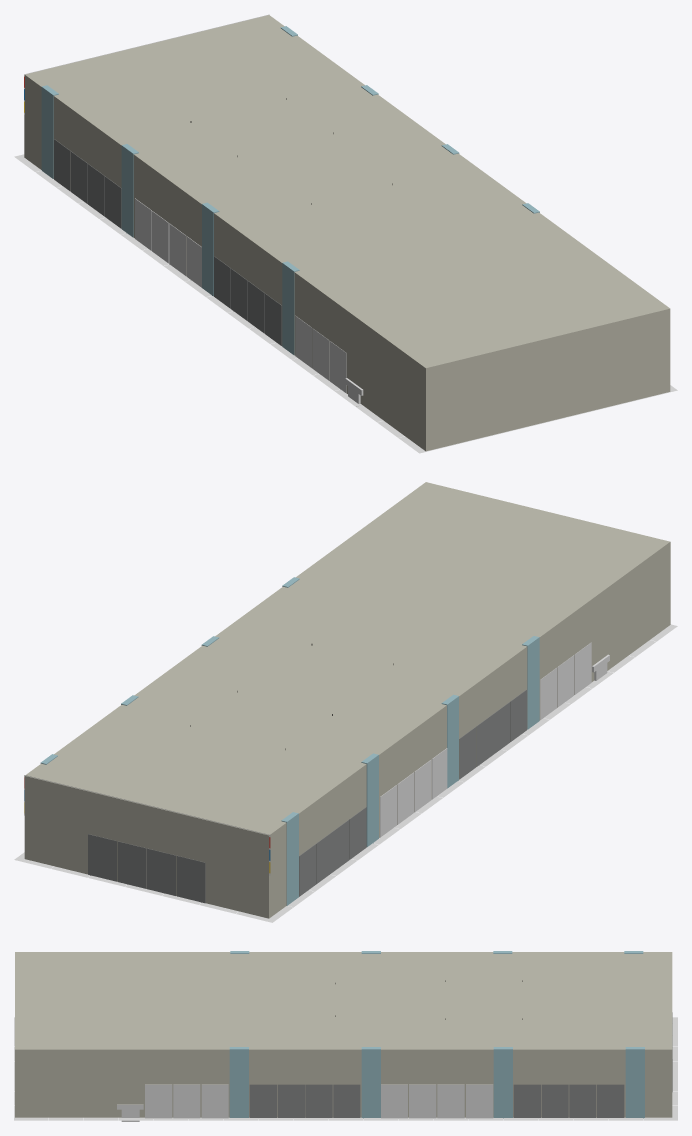
File: Map.fbx
The picture shows the model from 3 angles, top to bottom: view 1: azimuth 30°, elevation 25°; view 2: azimuth 150°, elevation 25°; view 3: azimuth 270°, elevation 25°; orthographic projection. The views are drawn at different scales.
Parts seen in each view (by area): view 1: The Box, Cube.001, Floor Is Lava, Fridge.015, Fridge.014, Cube.022, Cube.024, Cube.016, Cube.013, Fridge.003, Fridge.012, Fridge (+5 smaller); view 2: The Box, Cube.001, Floor Is Lava, Fridge.024, Fridge.028, Fridge.029, Fridge.025, Fridge.003, Fridge.015, Cube.022, Cube.024, Cube.013 (+10 smaller); view 3: The Box, Cube.001, Floor Is Lava, Cube.017, Cube.015, Cube.011, Cube.012, Cube.019, Cube.020, Fridge.006, Fridge.004, Fridge.005 (+7 smaller).
Part boxes in pixels (bbox=[...]): The Box: bbox=[24, 15, 670, 451]; Cube.001: bbox=[41, 26, 539, 354]; Floor Is Lava: bbox=[14, 154, 677, 453]; Fridge.015: bbox=[104, 176, 121, 228]; Fridge.014: bbox=[87, 164, 104, 216]; Cube.022: bbox=[152, 211, 169, 263]; Cube.024: bbox=[169, 223, 186, 275]; Cube.016: bbox=[312, 328, 329, 380]; Cube.013: bbox=[329, 341, 346, 393]; Fridge.003: bbox=[231, 268, 247, 321]; Fridge.012: bbox=[71, 151, 87, 203]; Fridge: bbox=[265, 293, 281, 345]; The Box: bbox=[24, 482, 670, 918]; Cube.001: bbox=[40, 577, 539, 905]; Floor Is Lava: bbox=[14, 624, 677, 922]; Fridge.024: bbox=[176, 855, 205, 903]; Fridge.028: bbox=[117, 841, 146, 888]; Fridge.029: bbox=[88, 834, 116, 881]; Fridge.025: bbox=[147, 848, 175, 895]; Fridge.003: bbox=[476, 714, 493, 766]; Fridge.015: bbox=[349, 807, 366, 859]; Cube.022: bbox=[397, 772, 414, 824]; Cube.024: bbox=[414, 759, 431, 812]; Cube.013: bbox=[574, 642, 591, 694]; The Box: bbox=[15, 952, 672, 1117]; Cube.001: bbox=[229, 951, 644, 1118]; Floor Is Lava: bbox=[14, 1017, 677, 1120]; Cube.017: bbox=[437, 1084, 464, 1118]; Cube.015: bbox=[201, 1084, 228, 1118]; Cube.011: bbox=[173, 1084, 200, 1118]; Cube.012: bbox=[145, 1084, 172, 1118]; Cube.019: bbox=[409, 1084, 436, 1118]; Cube.020: bbox=[466, 1084, 493, 1118]; Fridge.006: bbox=[305, 1084, 332, 1117]; Fridge.004: bbox=[277, 1084, 304, 1117]; Fridge.005: bbox=[249, 1084, 276, 1117].
Bounding box in the file's own units: 8961 × 2977 × 24345.
